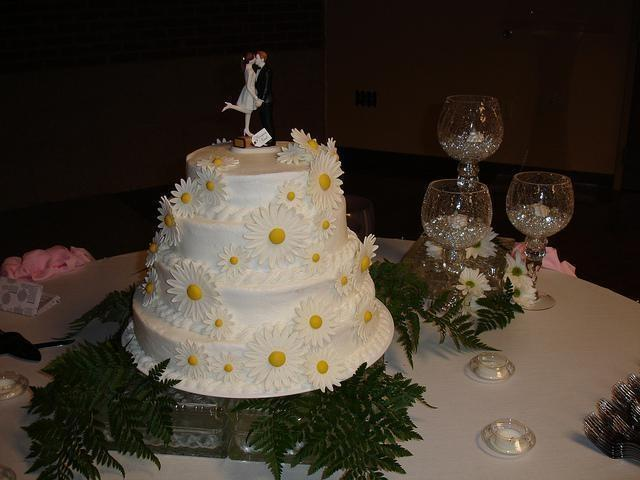glass-wine: (422, 179, 490, 322), (507, 172, 575, 312), (437, 93, 506, 182)
